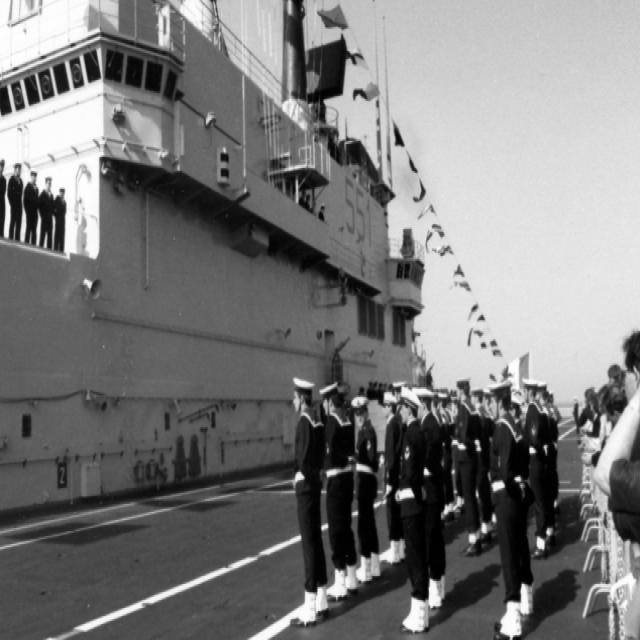Portanaves: (1, 1, 455, 548)
